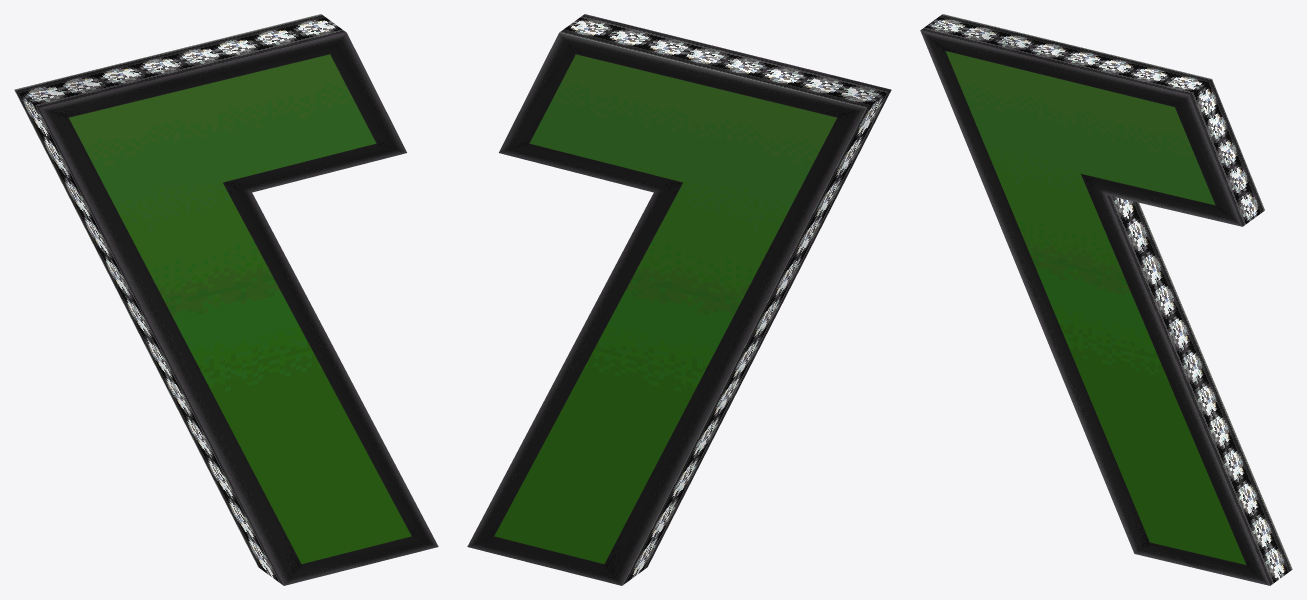
File: ps2_save-icons_killer7-hopper7.glb
3 views of the same model, side by side, from view 1: azimuth 30°, elevation 25°; view 2: azimuth 150°, elevation 25°; view 3: azimuth 330°, elevation 25° (orthographic). The views are drawn at different scales.
Parts seen in each view (by area): view 1: ghmicon.ico; view 2: ghmicon.ico; view 3: ghmicon.ico.
Boxes of the visible parts, bbox=[...] form: ghmicon.ico: bbox=[14, 14, 438, 585]; ghmicon.ico: bbox=[467, 14, 891, 585]; ghmicon.ico: bbox=[920, 14, 1292, 585].
Bounding box in the file's own units: 2.88 × 3.71 × 0.3213.
1 material, 1 textured.
